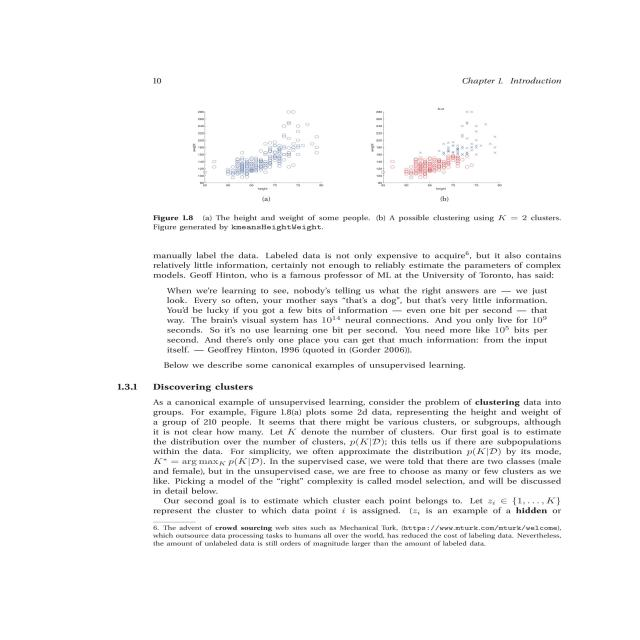diagram: (139, 93, 574, 245)
